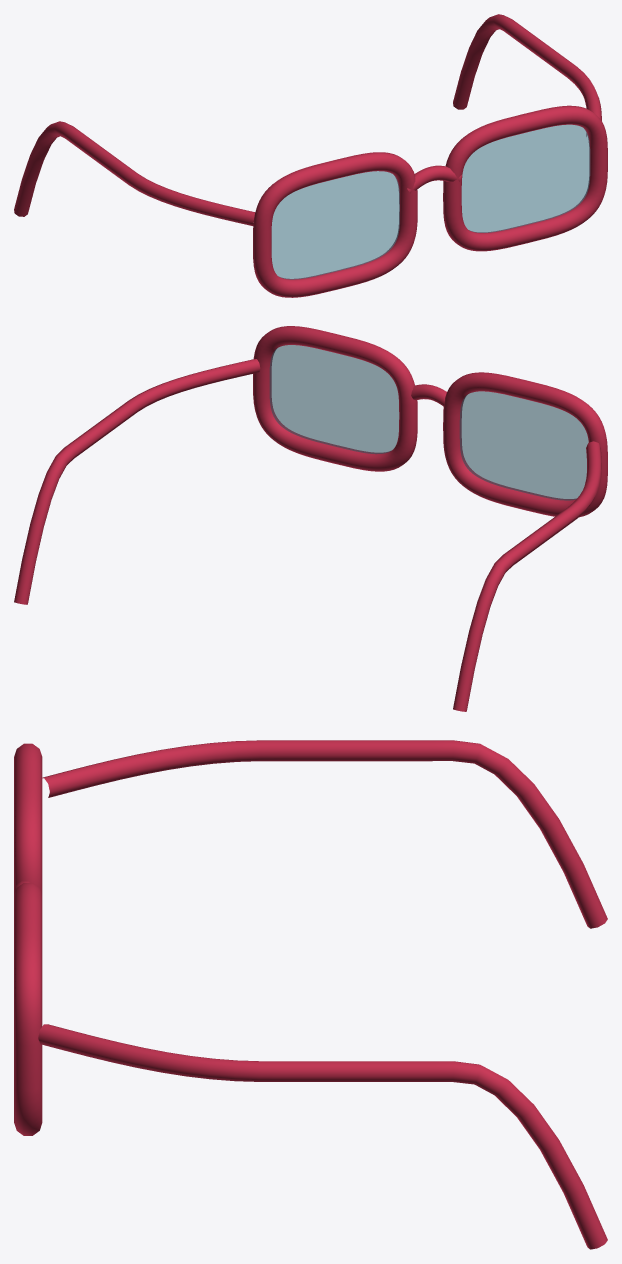
Rendered from glasses.glb.
The picture shows the model from 3 angles, top to bottom: view 1: azimuth 30°, elevation 25°; view 2: azimuth 150°, elevation 25°; view 3: azimuth 270°, elevation 25°; orthographic projection. The views are drawn at different scales.
Visible parts, largest first — view 1: glasses; view 2: glasses; view 3: glasses.
Boxes of the visible parts, x1=… form: glasses: x1=14, y1=14, x2=607, y2=297; glasses: x1=14, y1=326, x2=607, y2=711; glasses: x1=14, y1=740, x2=607, y2=1249.
Bounding box in the file's own units: 2.47 × 0.8458 × 1.88.
